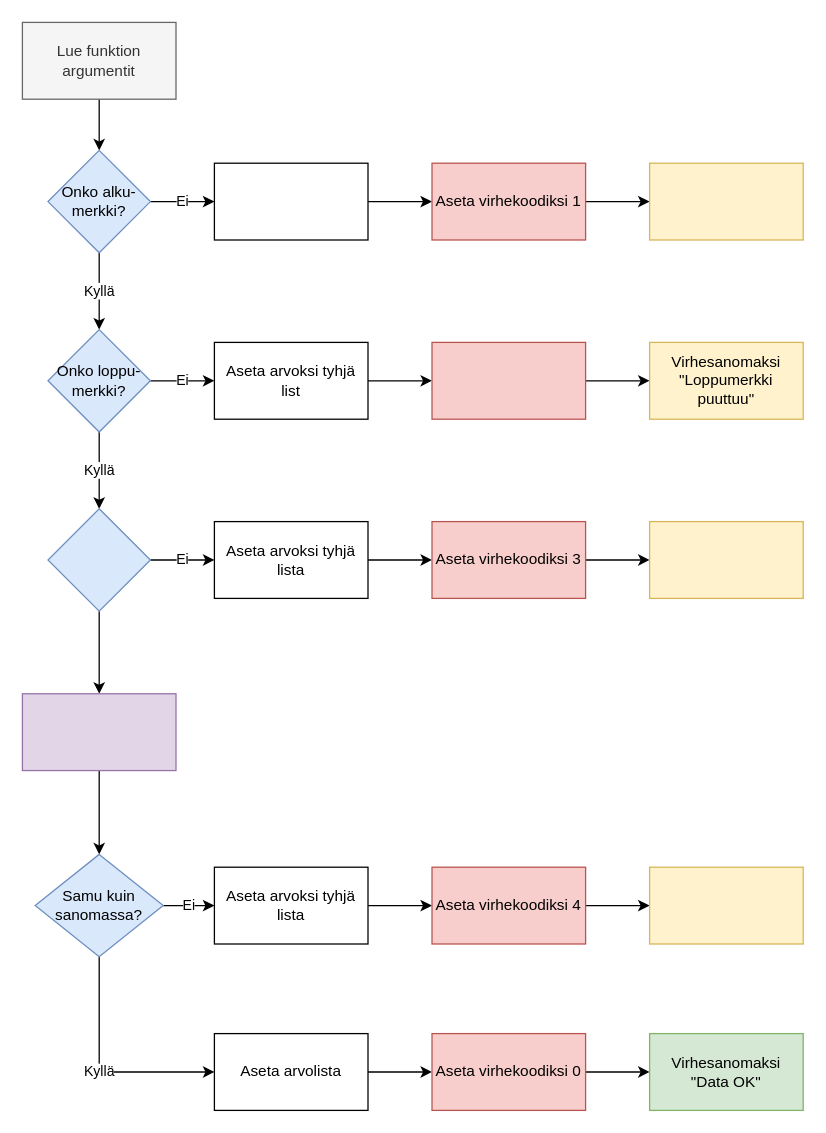
The diagram is 826 pixels wide and 1133 high, and some of its shapes have lost their labels. Here are the shapes that lost their labels. From the top down, the box of each, then its label:
(213, 162, 368, 240): Asetetaan arvoksi tyhjä lista
(648, 162, 803, 240): Virhesanomaksi "Alkumerkki puuttuu"
(431, 341, 586, 419): Aseta virhekoodiksi 2
(47, 508, 150, 611): Osia >=2?
(648, 520, 803, 598): Virhesanomaksi "Data puuttuu tai pelkkä varmiste sisältyy"
(21, 692, 176, 771): Laske varmistussumma uudelleen
(648, 866, 803, 944): Virhesanomaksi "Varmistussumma virheellinen"
